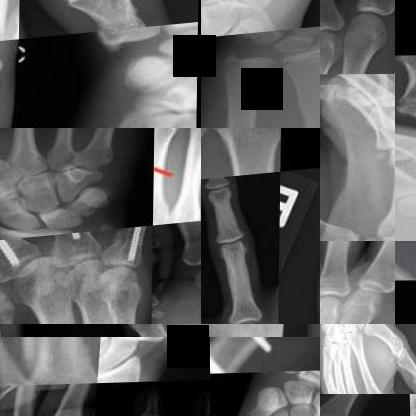fracture: (224, 41, 319, 88), (210, 337, 291, 374), (48, 0, 139, 25), (122, 231, 153, 280), (320, 365, 337, 393), (368, 74, 394, 89), (395, 55, 415, 65)
